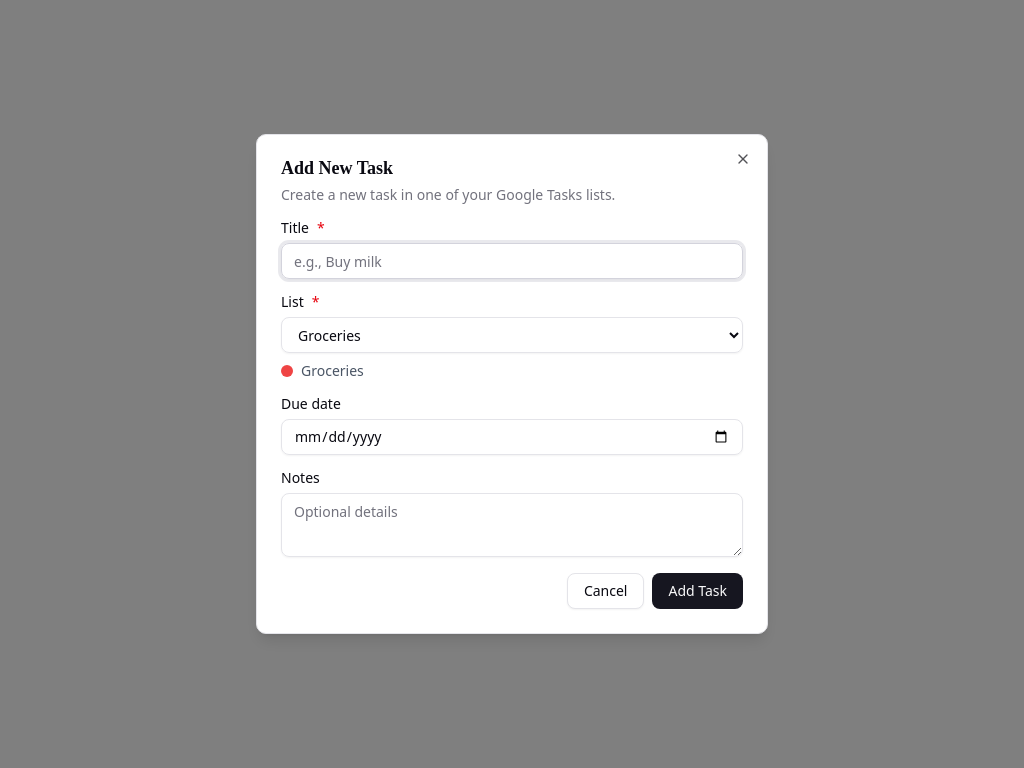
it: NewTaskModal › validation › shows an inline error when submitting with an empty title
Click the button "Add Task" at (698, 591), box [652,573,743,609]
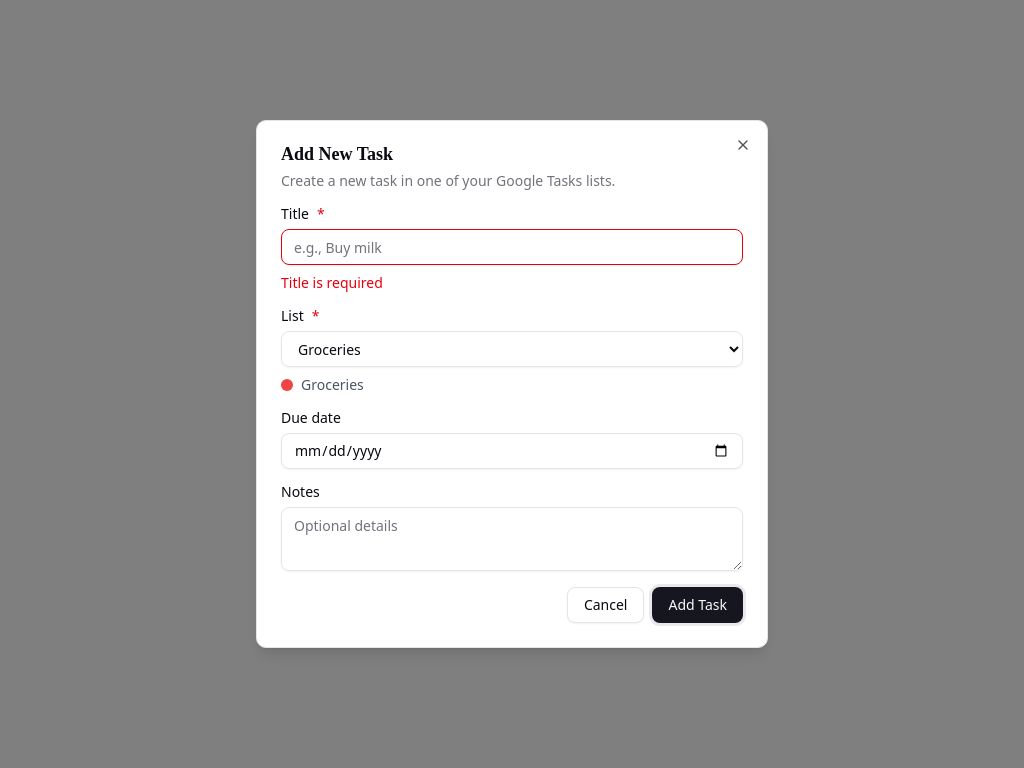
expect the text "Title is required" is shown: met, box [281,273,383,292]
